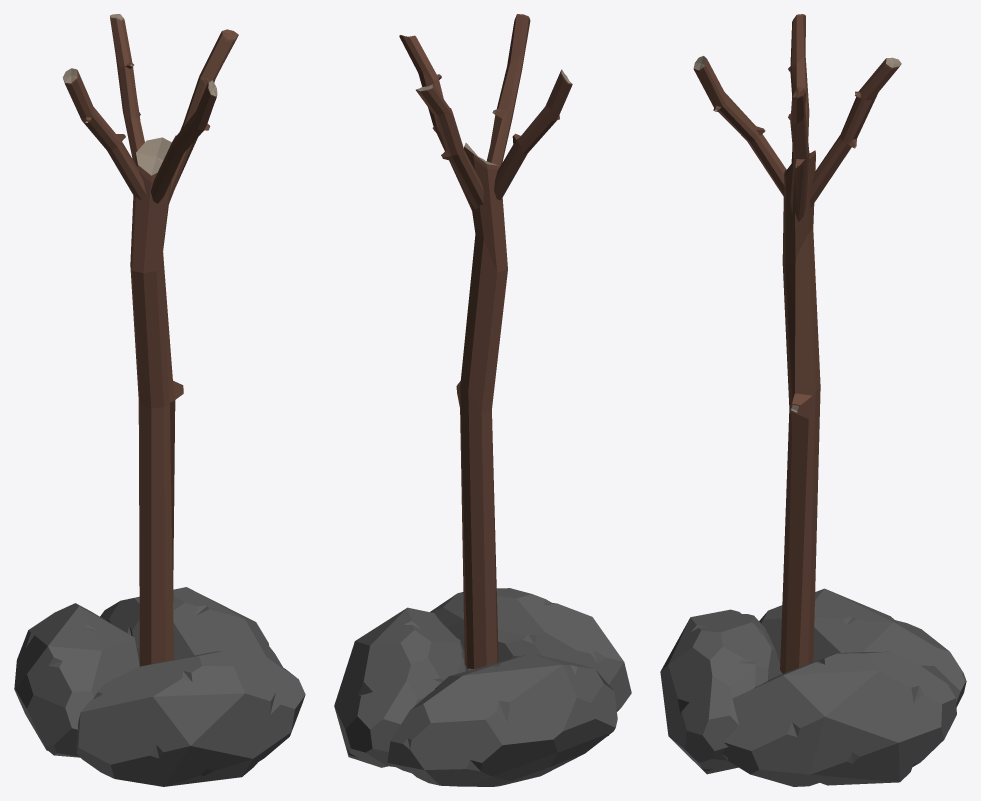
File: Standing Fire.fbx
3 renders of one model, left to right at view 1: azimuth 30°, elevation 25°; view 2: azimuth 150°, elevation 25°; view 3: azimuth 270°, elevation 25°, orthographic.
Parts seen in each view (by area): view 1: Standing Fire Part 03, Standing Fire Part 04, Standing Fire Part 02, Standing Fire Part 01, Standing Fire Part 08, Standing Fire Part 05, Standing Fire Part 07, Standing Fire Part 06; view 2: Standing Fire Part 02, Standing Fire Part 04, Standing Fire Part 01, Standing Fire Part 03, Standing Fire Part 07, Standing Fire Part 08, Standing Fire Part 05, Standing Fire Part 06; view 3: Standing Fire Part 01, Standing Fire Part 04, Standing Fire Part 03, Standing Fire Part 02, Standing Fire Part 05, Standing Fire Part 07, Standing Fire Part 06, Standing Fire Part 08.
Boxes of the visible parts, x1,y1,x2,y2 form: Standing Fire Part 03: (76,651,305,786); Standing Fire Part 04: (130,137,183,666); Standing Fire Part 02: (14,603,139,757); Standing Fire Part 01: (100,587,282,666); Standing Fire Part 08: (62,68,146,200); Standing Fire Part 05: (110,14,144,161); Standing Fire Part 07: (151,80,217,203); Standing Fire Part 06: (168,29,238,205); Standing Fire Part 02: (387,653,617,786); Standing Fire Part 04: (456,143,507,670); Standing Fire Part 01: (334,607,467,767); Standing Fire Part 03: (430,588,631,711); Standing Fire Part 07: (487,14,530,166); Standing Fire Part 08: (494,69,572,200); Standing Fire Part 05: (416,84,483,209); Standing Fire Part 06: (399,35,471,210); Standing Fire Part 01: (721,651,956,786); Standing Fire Part 04: (780,150,820,673); Standing Fire Part 03: (660,609,781,774); Standing Fire Part 02: (759,588,966,706); Standing Fire Part 05: (810,57,901,207); Standing Fire Part 07: (693,56,786,195); Standing Fire Part 06: (788,87,809,221); Standing Fire Part 08: (788,14,809,162).
Size of the model in its own units: 0.5519 by 1.54 by 0.6094.
